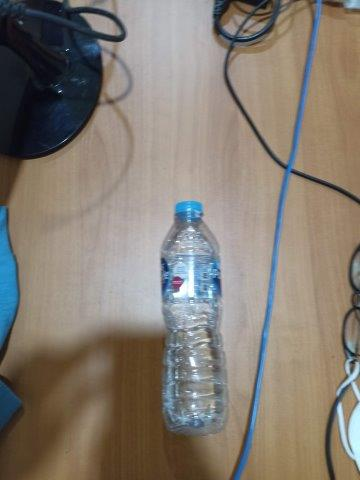botolplastik: (162, 200, 229, 435)
